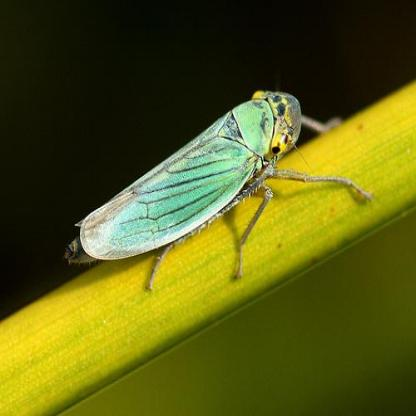Green-Leafhopper: (54, 81, 381, 288)
